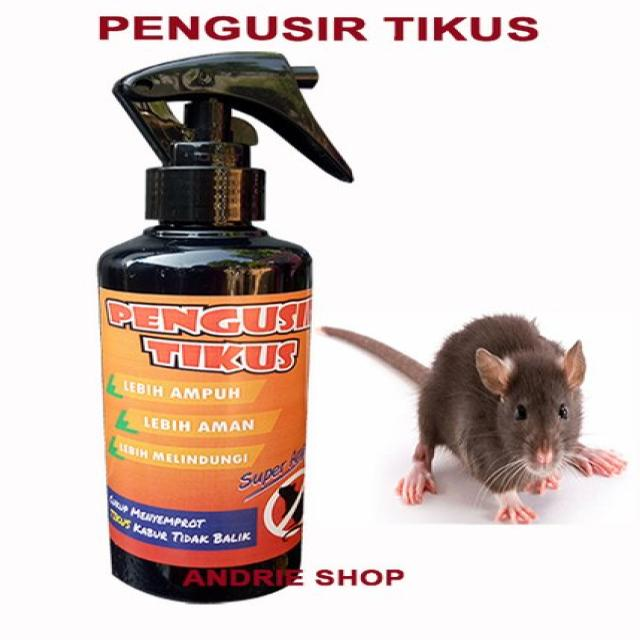rat: (398, 303, 638, 532)
